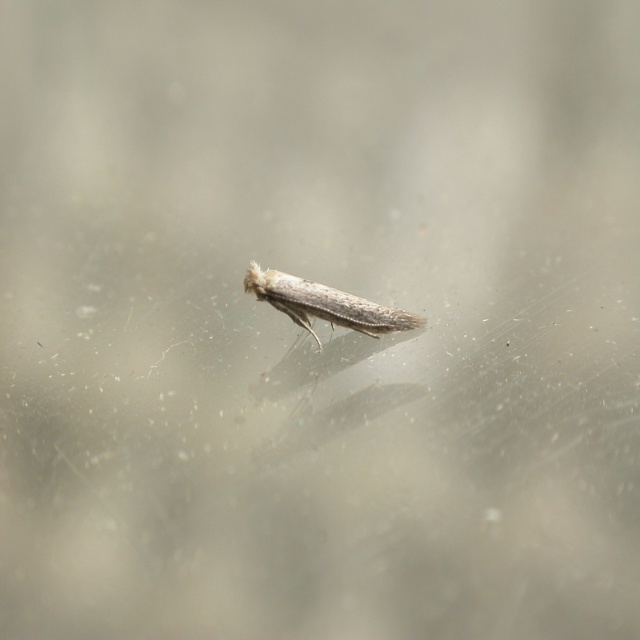Moths and butterflies: (240, 257, 428, 355)
